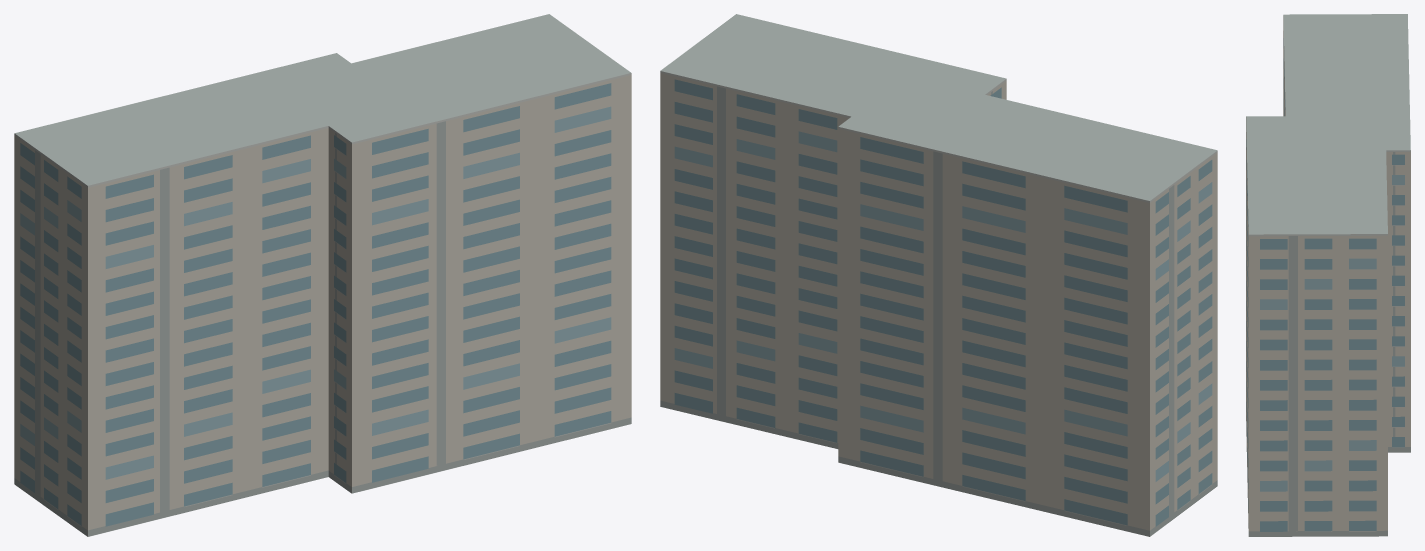
Rendered from residential-38c7f8cc-7624-4c81-8b35-4e5409008d5a.glb.
The picture shows the model from 3 angles, left to right: view 1: azimuth 30°, elevation 25°; view 2: azimuth 150°, elevation 25°; view 3: azimuth 270°, elevation 25°; orthographic projection. The views are drawn at different scales.
Visible parts, largest first — view 1: residential-38c7f8cc-7624-4c81-8b35-4e5409008d5a.tmp; view 2: residential-38c7f8cc-7624-4c81-8b35-4e5409008d5a.tmp; view 3: residential-38c7f8cc-7624-4c81-8b35-4e5409008d5a.tmp.
Boxes of the visible parts, x1,y1,x2,y2 form: residential-38c7f8cc-7624-4c81-8b35-4e5409008d5a.tmp: [14, 14, 631, 536]; residential-38c7f8cc-7624-4c81-8b35-4e5409008d5a.tmp: [660, 14, 1217, 536]; residential-38c7f8cc-7624-4c81-8b35-4e5409008d5a.tmp: [1246, 14, 1410, 536].
Size of the model in its own units: 65.69 by 42 by 20.74.
